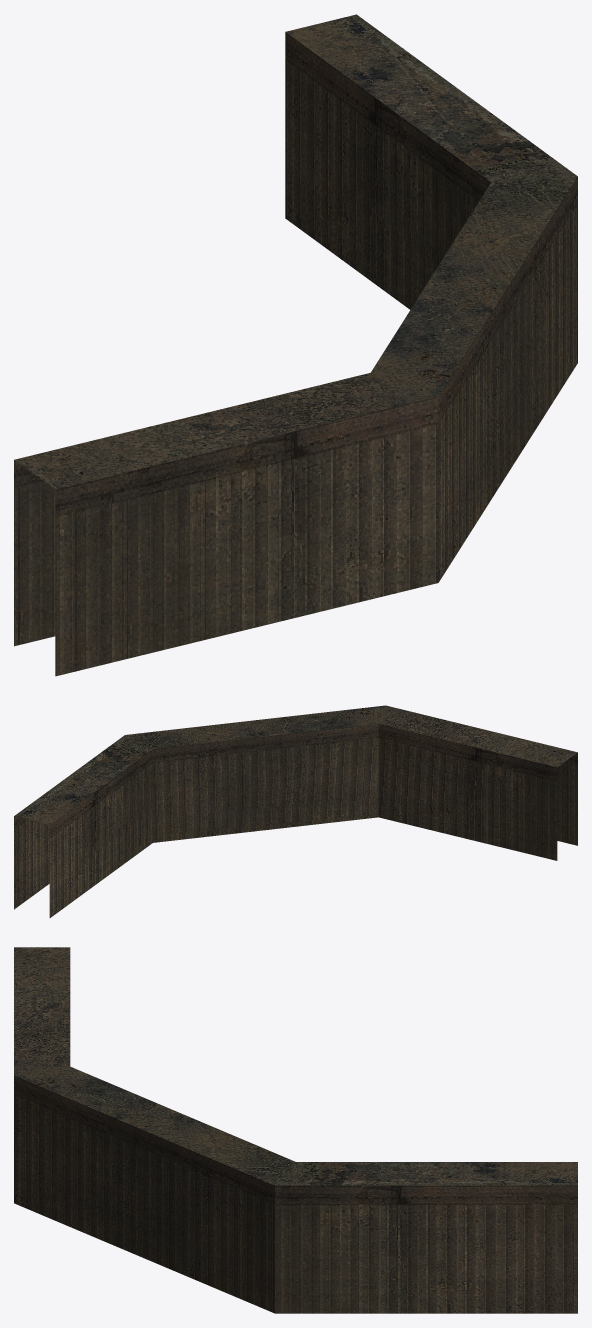
File: wall_rx_1_m2a_1_1_3_height.glb
3 views of the same model, one above another, from view 1: azimuth 30°, elevation 25°; view 2: azimuth 150°, elevation 25°; view 3: azimuth 270°, elevation 25° (orthographic). The views are drawn at different scales.
Parts seen in each view (by area): view 1: wall_rx_1_m2a_1_1/3_height; view 2: wall_rx_1_m2a_1_1/3_height; view 3: wall_rx_1_m2a_1_1/3_height.
Boxes of the visible parts, x1,y1,x2,y2 form: wall_rx_1_m2a_1_1/3_height: (14, 14, 577, 676); wall_rx_1_m2a_1_1/3_height: (14, 705, 577, 917); wall_rx_1_m2a_1_1/3_height: (14, 947, 577, 1313).
Bounding box in the file's own units: 4 × 1 × 4.
Materials: 2 (2 with a texture image).
